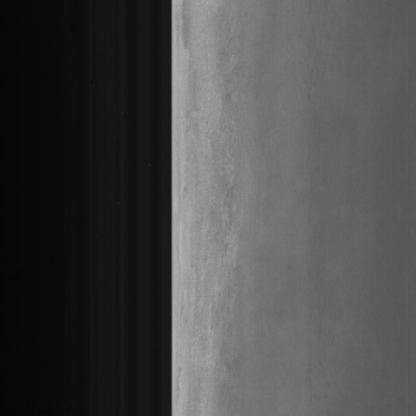silk_spot: (209, 85, 245, 364)
